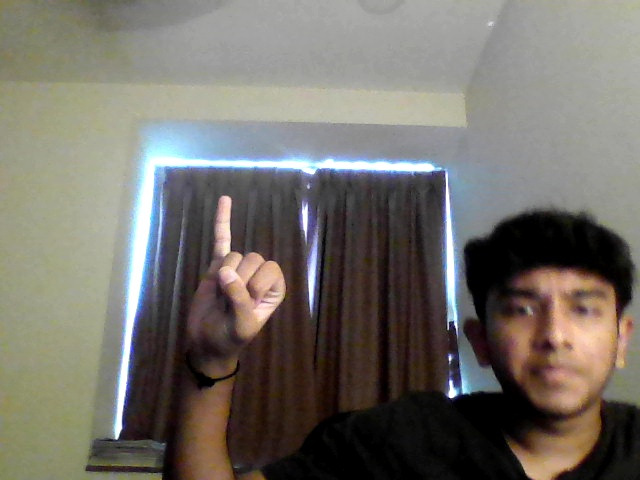I: (188, 194, 285, 346)
